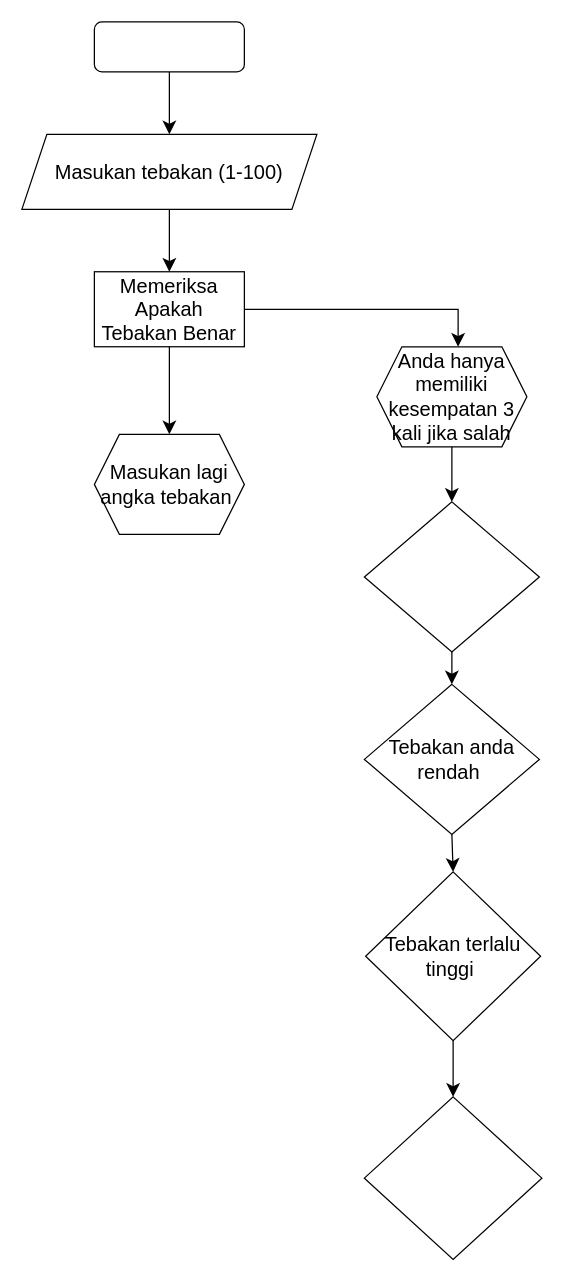
This 564x1281 diagram has some shape labels left out. The shapes that lost their labels are listed below. From the top down, each one's centre as x and y in pixels, then its label:
pixel 168 46: Mulai
pixel 451 576: Anda miliki kesempatan
pixel 452 1177: Tebakan anda benar
